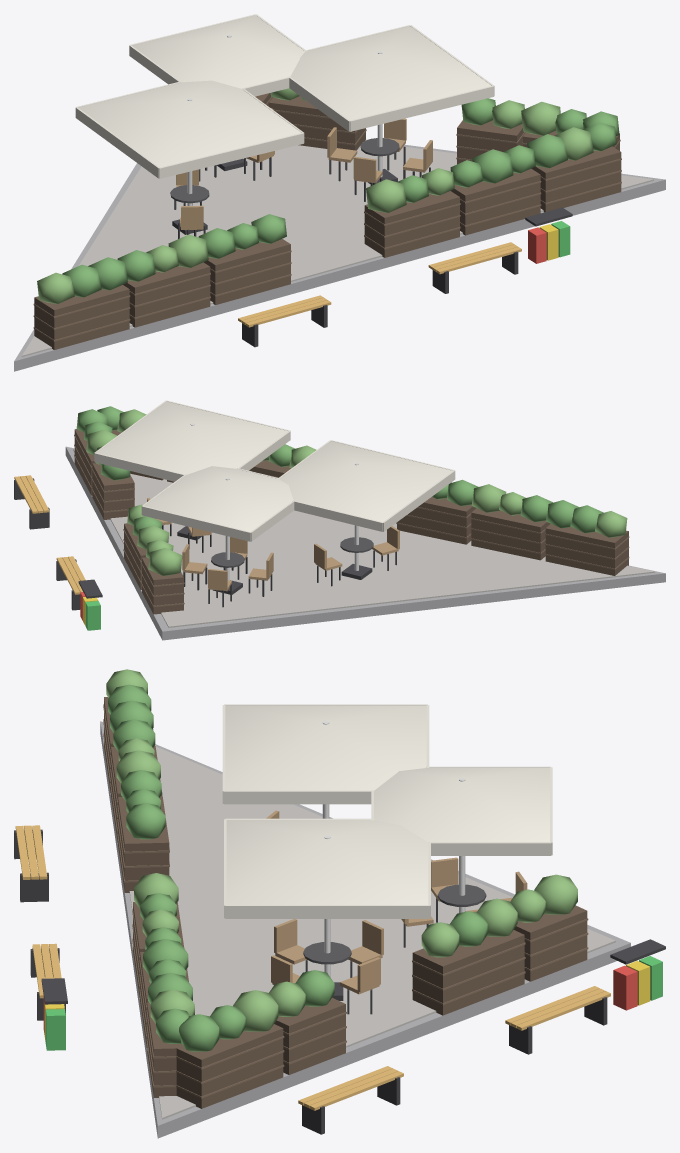
The picture shows the model from 3 angles, top to bottom: view 1: azimuth 30°, elevation 25°; view 2: azimuth 150°, elevation 25°; view 3: azimuth 270°, elevation 25°; orthographic projection. The views are drawn at different scales.
Visible parts, largest first — view 1: base; view 2: base; view 3: base.
Part boxes in pixels (bbox=[...]): base: bbox=[14, 14, 665, 371]; base: bbox=[14, 400, 665, 640]; base: bbox=[14, 669, 665, 1138].
Bounding box in the file's own units: 15.02 × 2.97 × 10.22.
